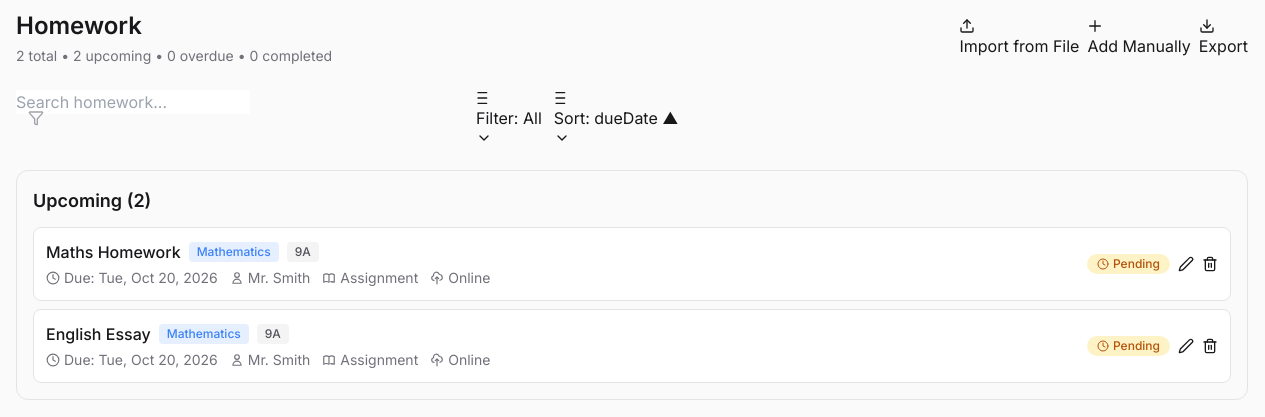
Test: HomeworkView › searches homework by title
Type "Maths" into the field with placeholder "Search homework...".
click(133, 102); type("Maths")  # box [16,90,250,114]
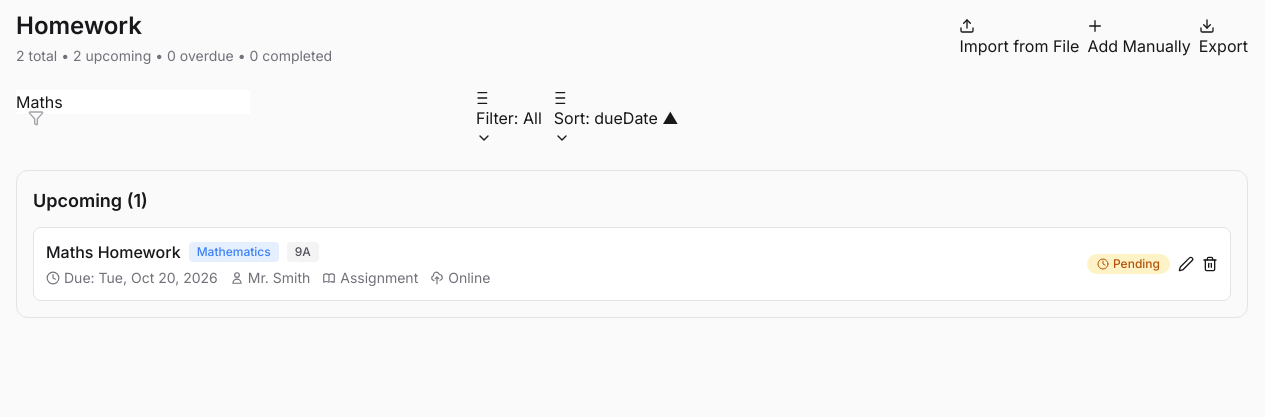
Expected: the heading "Maths Homework" is shown, [46,240,181,264]
Expected: the heading "English Essay" is gone
